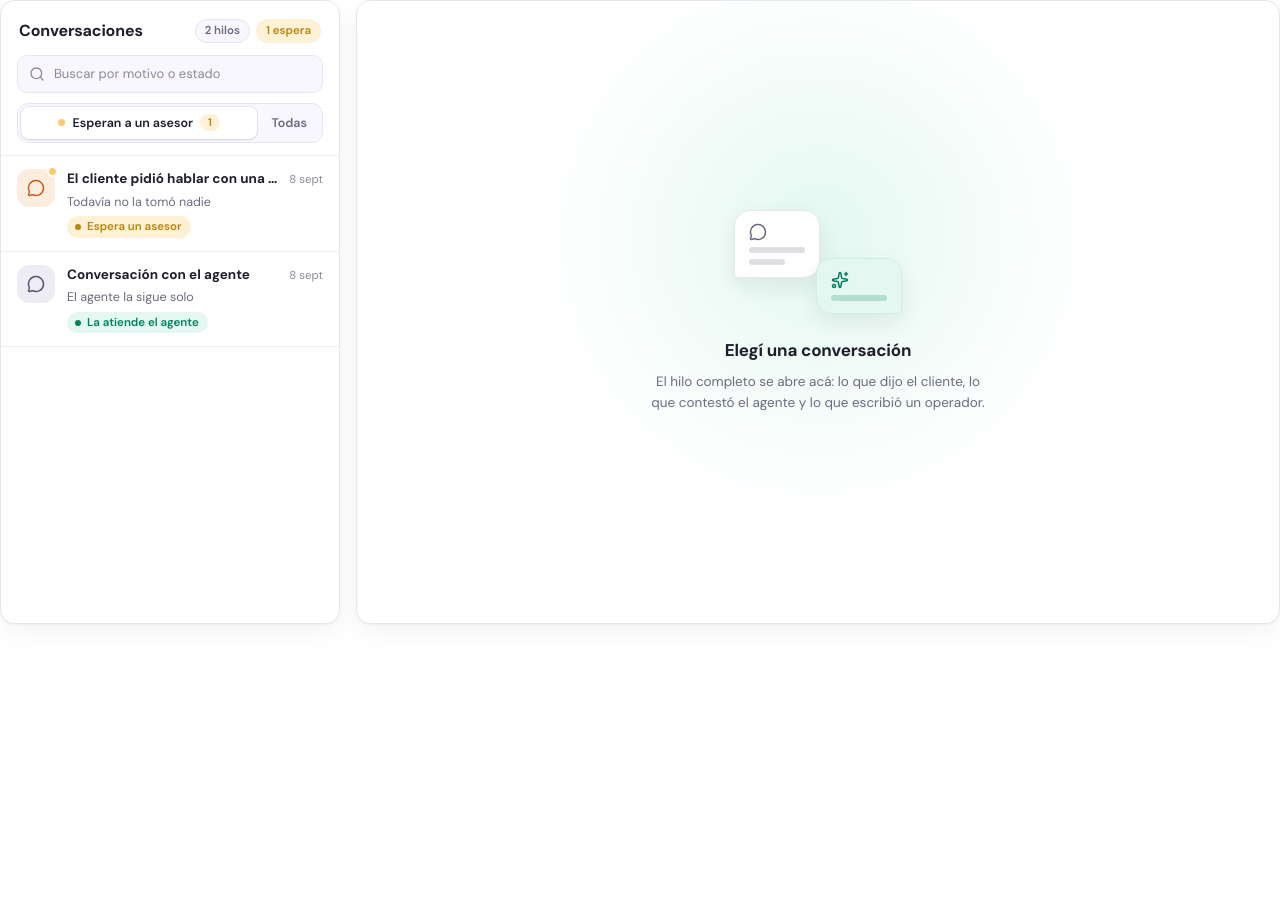
Scenario: bandeja rediseñada › filtra la lista con la búsqueda y avisa cuando nada coincide
This screenshot has width=1280, height=900.
Expected: the number of links is 2, [1, 156, 339, 251]; [1, 252, 339, 346]
Type "persona" into the search field named "Buscar conversaciones" at (170,74), box [17, 54, 323, 92]
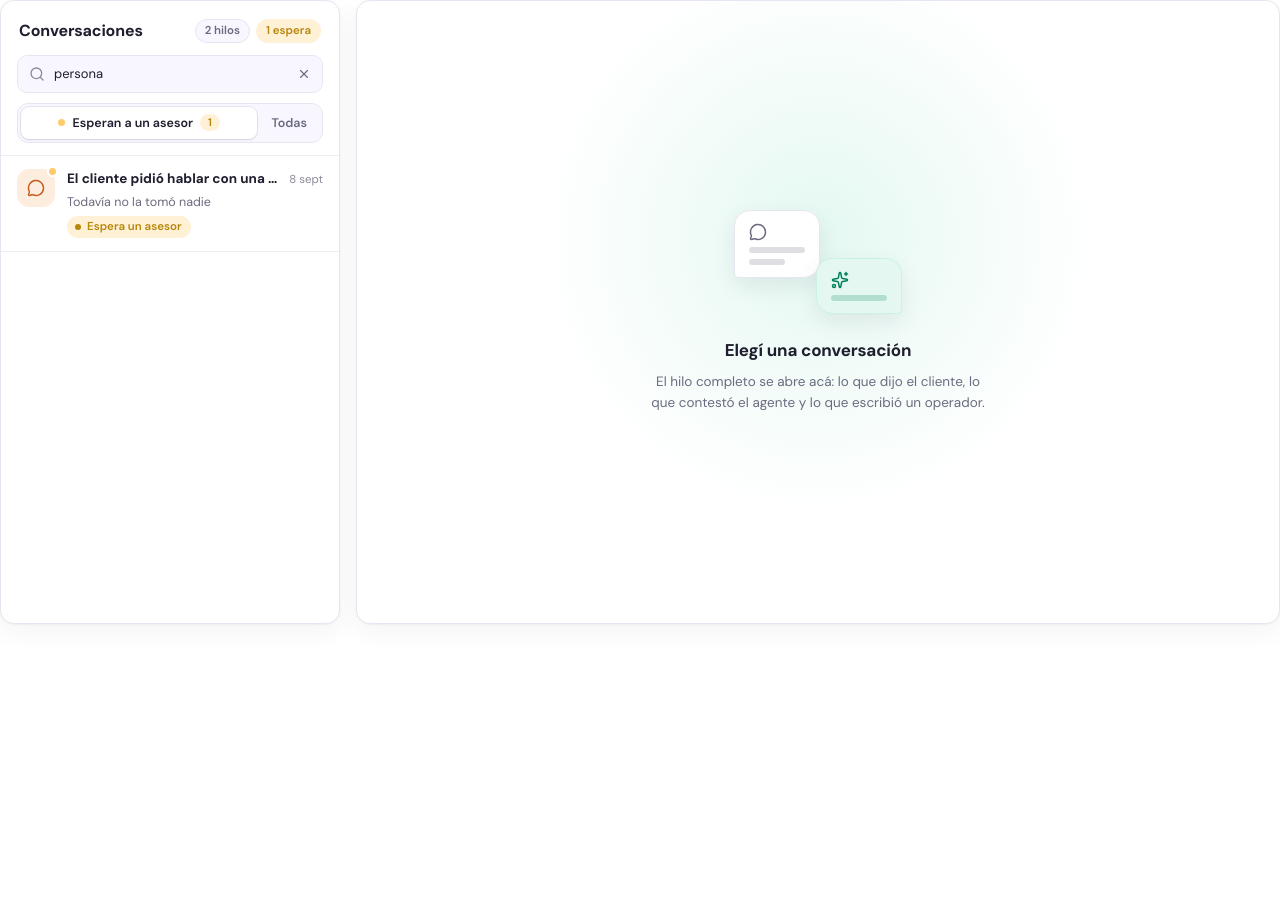
Result: the number of links is 1 at [1, 156, 339, 251]
Replace the text in the search field named "Buscar conversaciones" with "zzz" at (170,74), box [17, 54, 323, 92]
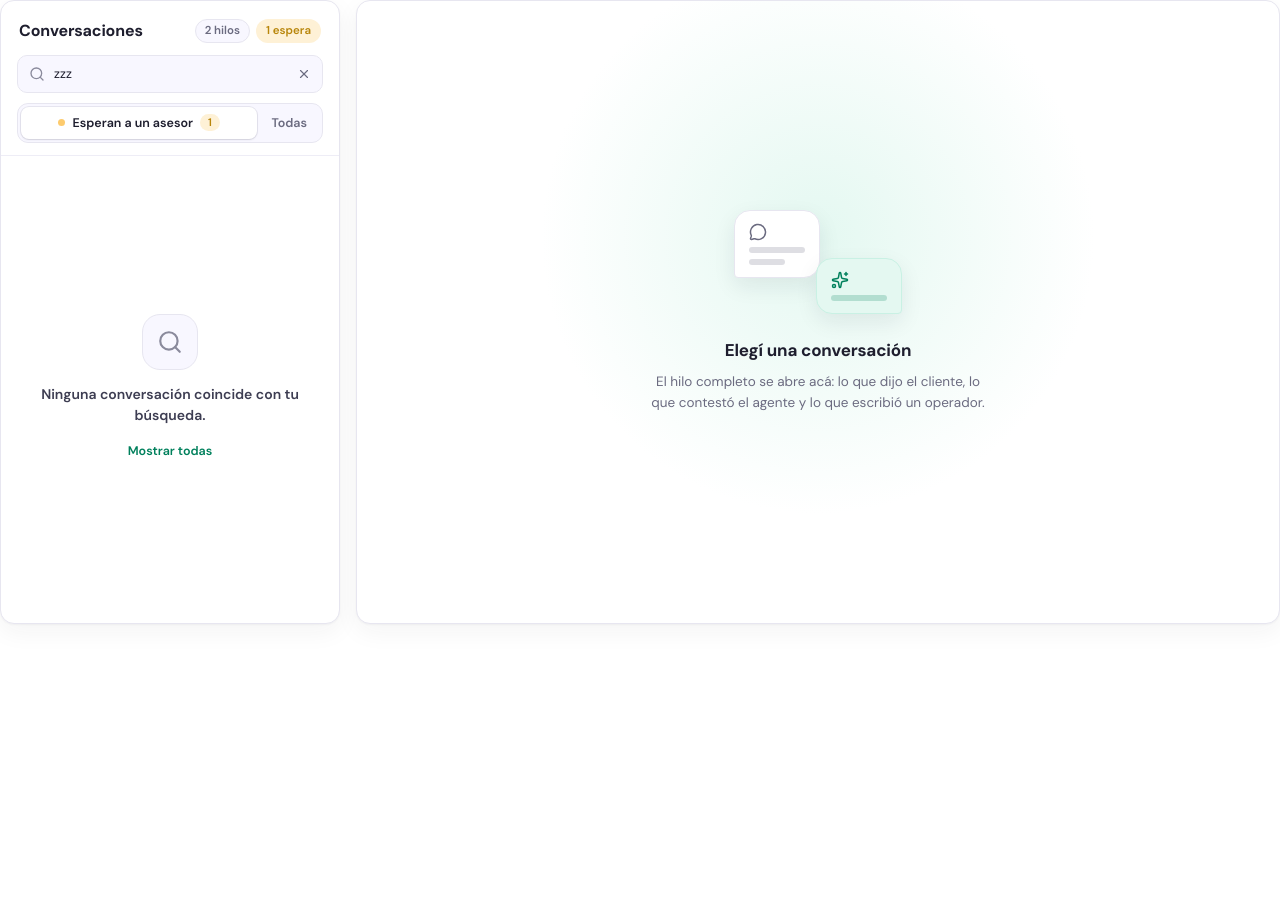
Result: the text "Ninguna conversación coincide con tu búsqueda." is shown at [25, 384, 315, 426]
Click the button "Mostrar todas" at (170,452), box [120, 438, 220, 465]
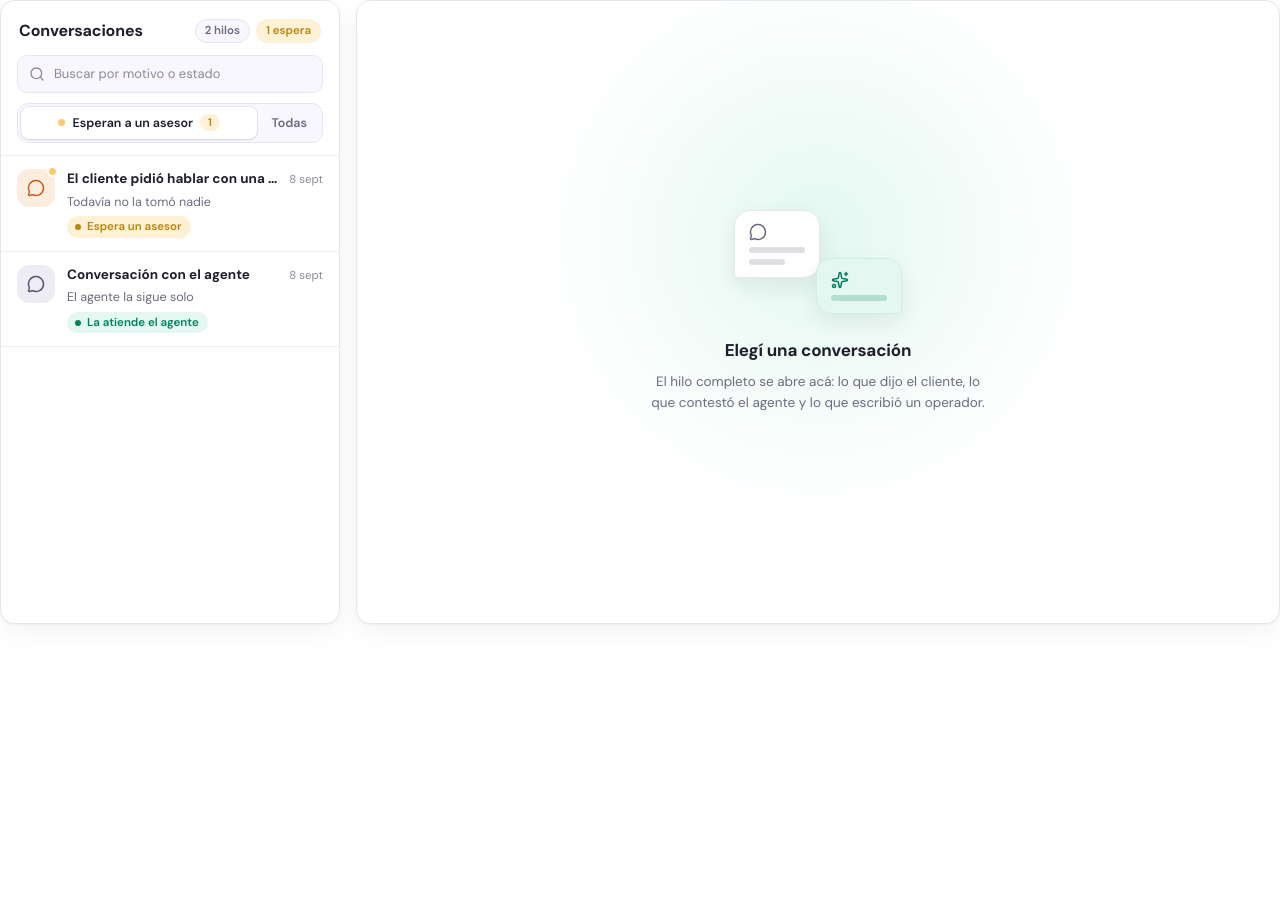
Result: the number of links is 2 at [1, 156, 339, 251]; [1, 252, 339, 346]
